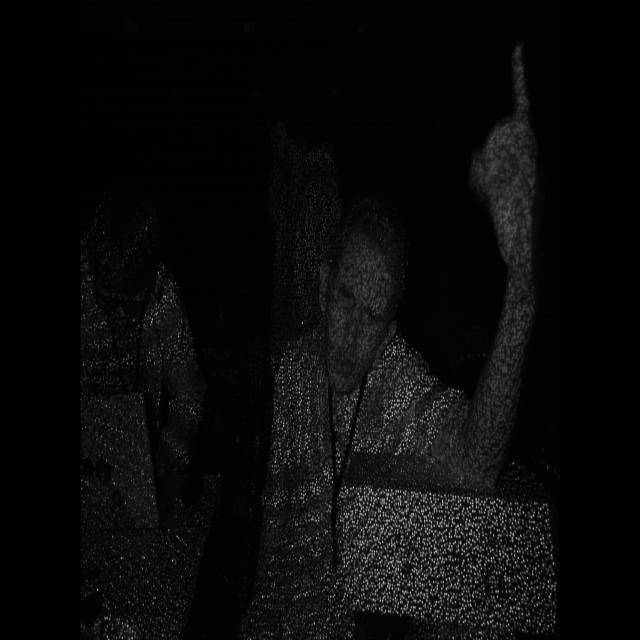D: (459, 34, 554, 282)
